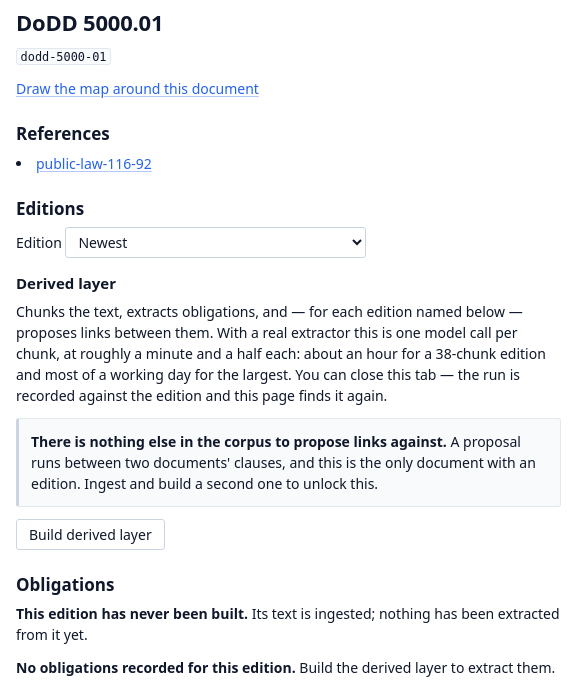
Test: DocumentDetail — building the derived layer › surfaces a failed run rather than leaving it spinning
Click the button "Build derived layer" at (90, 534), box [16,519,165,550]
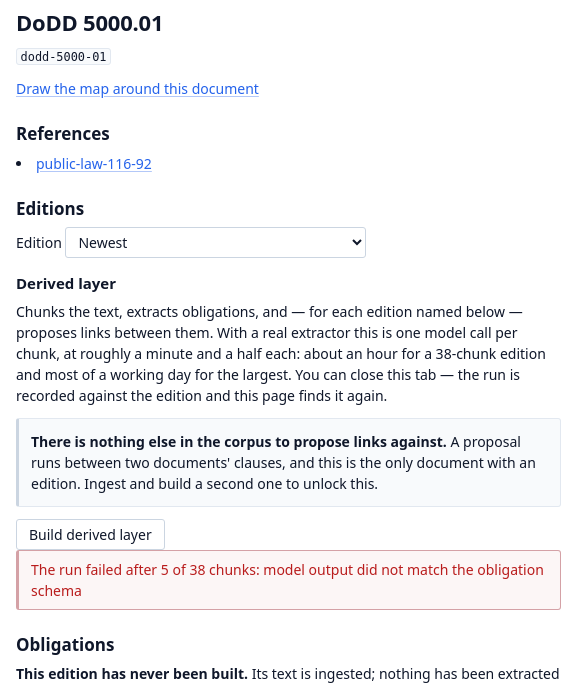
Now the message that starts with "The run failed after" shows "did not match", box [31,560,544,600]
